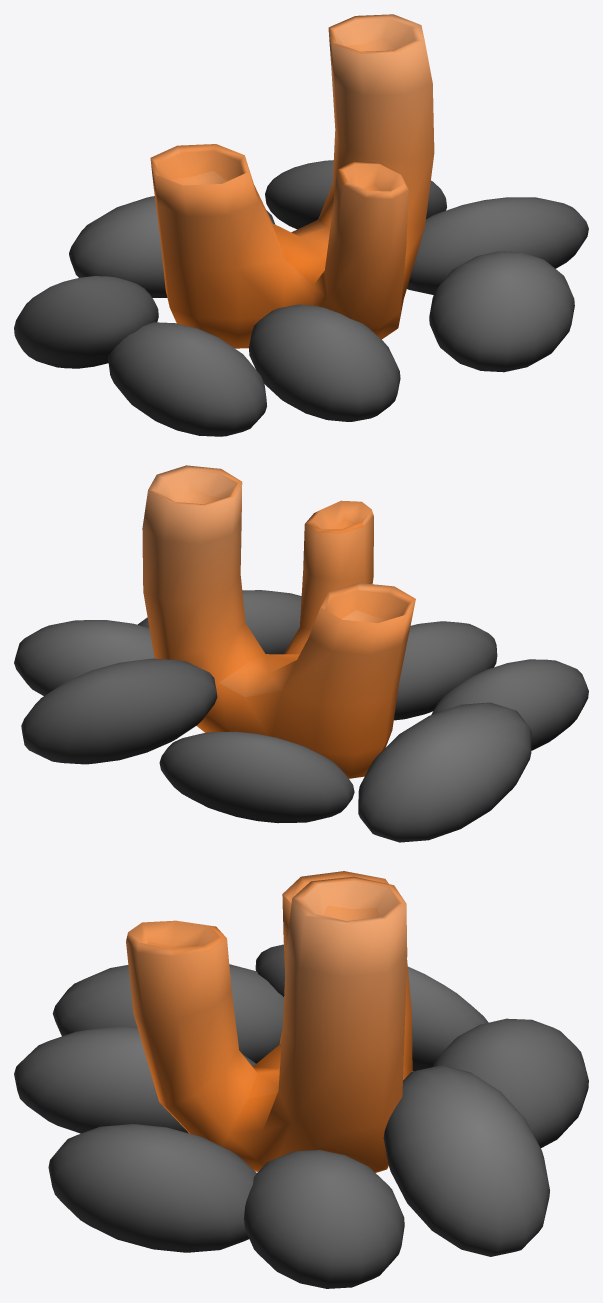
The model's file is Coral4.fbx.
3 views of the same model, one above another, from view 1: azimuth 30°, elevation 25°; view 2: azimuth 150°, elevation 25°; view 3: azimuth 270°, elevation 25° (orthographic). The views are drawn at different scales.
Parts seen in each view (by area): view 1: Piedras de coral.002, Cube.002; view 2: Piedras de coral.002, Cube.002; view 3: Piedras de coral.002, Cube.002.
Boxes of the visible parts, bbox=[...] form: Piedras de coral.002: bbox=[14, 160, 588, 436]; Cube.002: bbox=[150, 14, 434, 348]; Piedras de coral.002: bbox=[14, 590, 588, 842]; Cube.002: bbox=[142, 465, 415, 778]; Piedras de coral.002: bbox=[14, 944, 588, 1288]; Cube.002: bbox=[126, 871, 412, 1172].
Size of the model in its own units: 1079 by 528 by 862.
2 materials, 2 textured.
